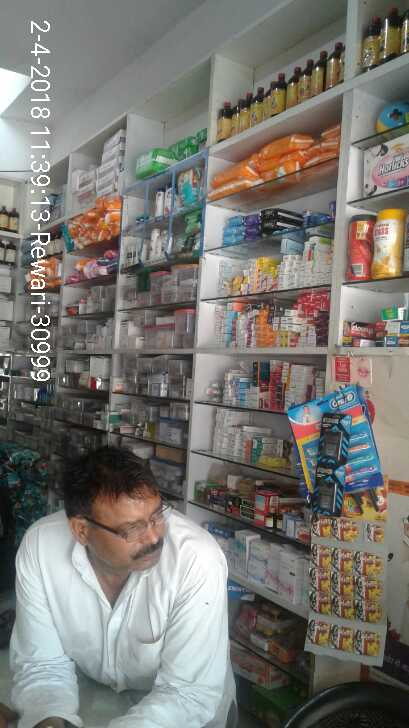oralcare: (299, 397, 374, 501)
